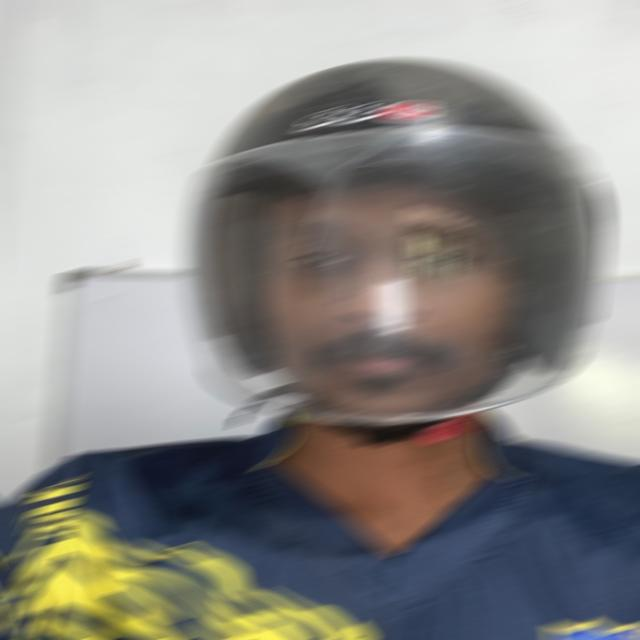With Helmet: (177, 58, 614, 424)
